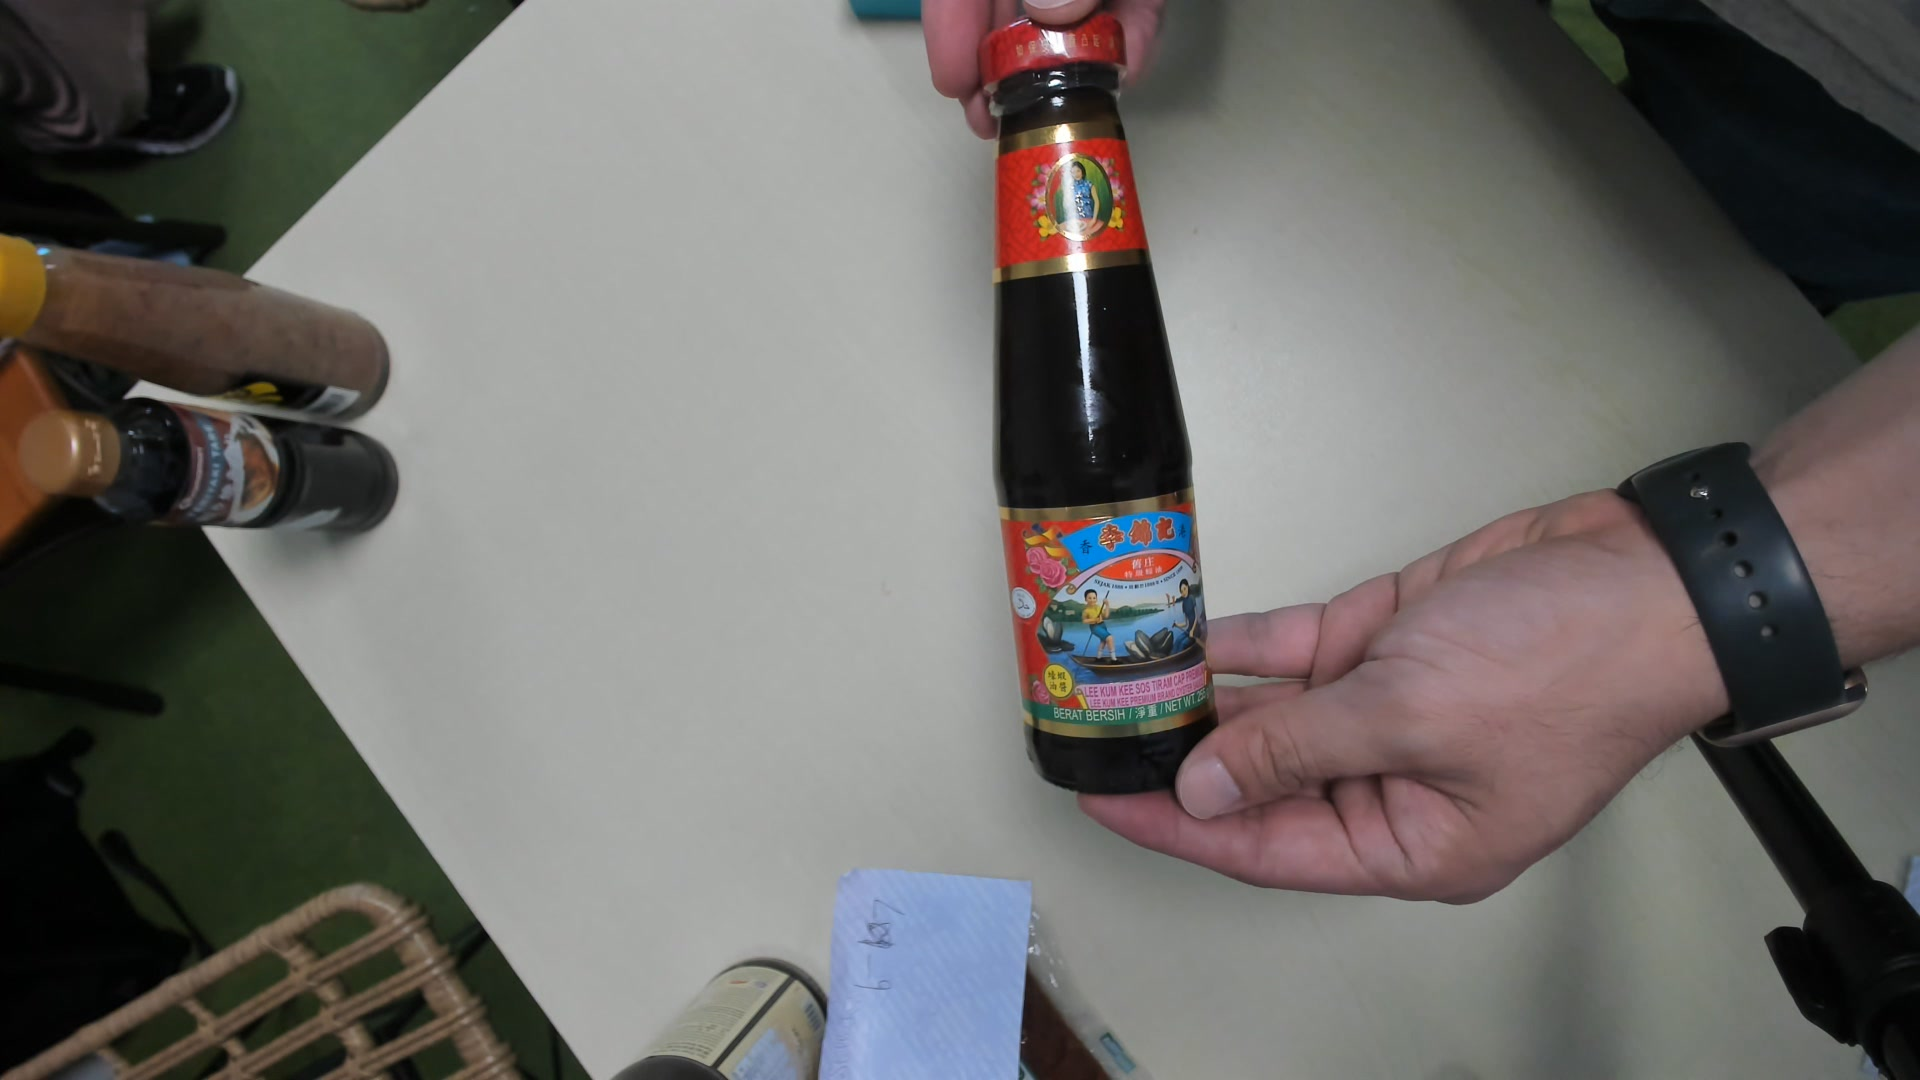OtherSauceDressingSoupbasePaste_200-299g_Halal_NonHealthy: (971, 15, 1216, 800)
